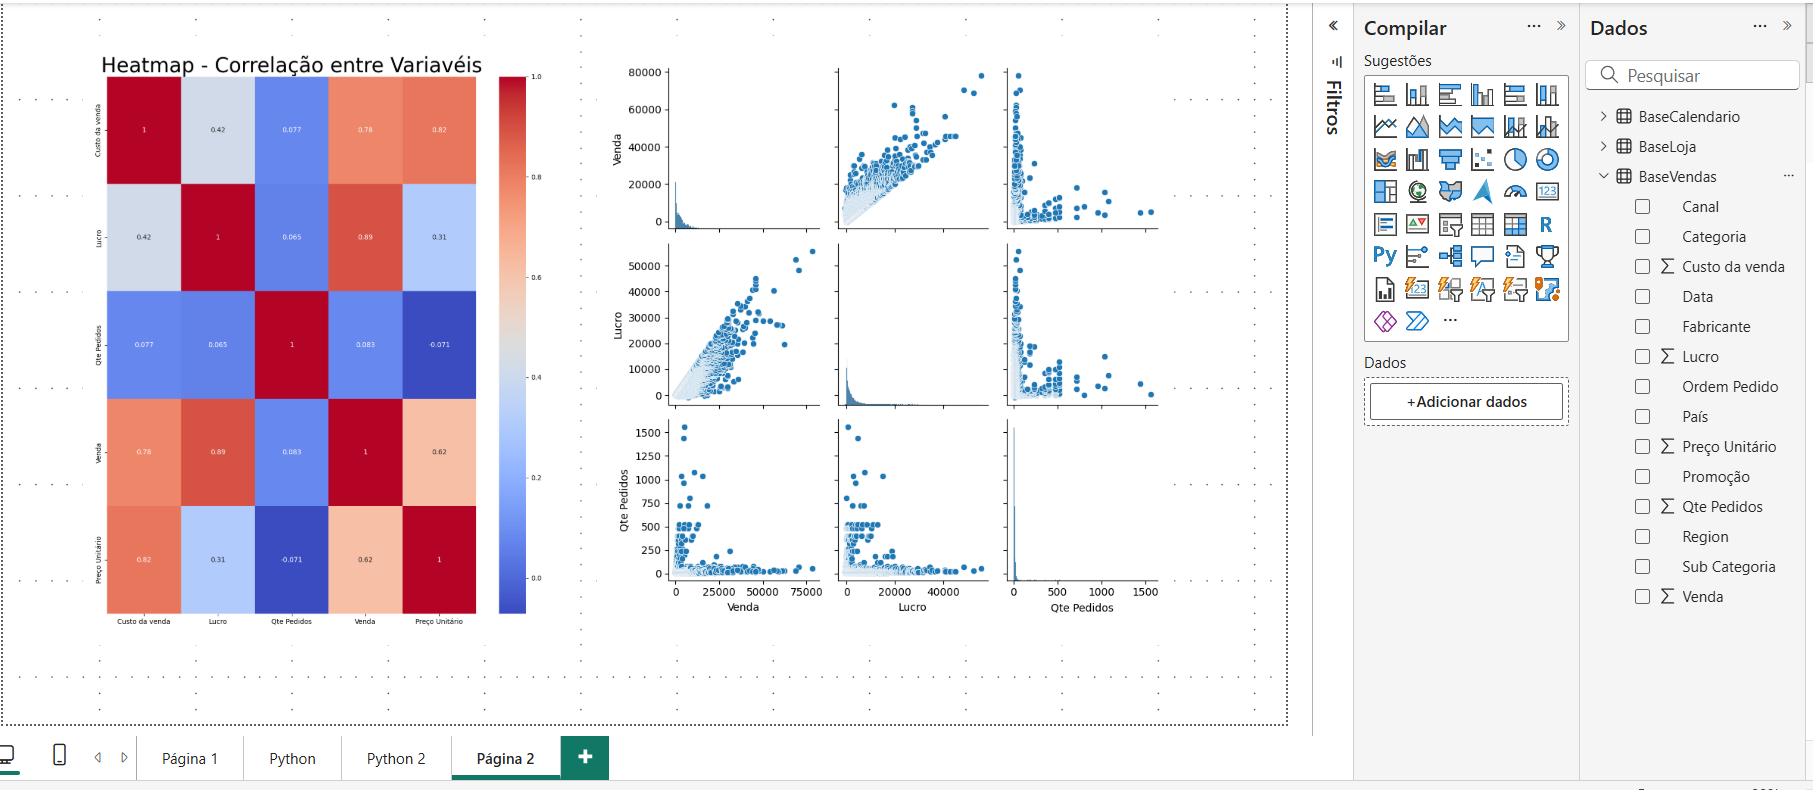

The dashboard page shown, as its layout file describes it:
{"tool":"powerbi","page":{"name":"Página 2","canvas":[1280,720],"ordinal":3},"visuals":[{"type":"pythonVisual","fields":{"Values":["Sum(BaseVendas.Custo da venda)","BaseVendas.Lucro","BaseVendas.Qte Pedidos","BaseVendas.Venda","BaseVendas.Preço Unitário"]},"box":[80,32,496,608],"z":0},{"type":"pythonVisual","fields":{"Values":["BaseVendas.Venda","BaseVendas.Lucro","BaseVendas.Qte Pedidos"]},"box":[592,32,576,608],"z":1000}]}

Visuals, with their boxes on the page's 1280x720 design canvas (x1, y1, x2, y2). These are canvas units, not pixel positions in the 1813x790 screenshot, which may show the page scaled, cropped or inside an application window:
pythonVisual - Sum(BaseVendas.Custo da venda) x BaseVendas.Lucro: [80,32,576,640]
pythonVisual - BaseVendas.Venda x BaseVendas.Lucro: [592,32,1168,640]
